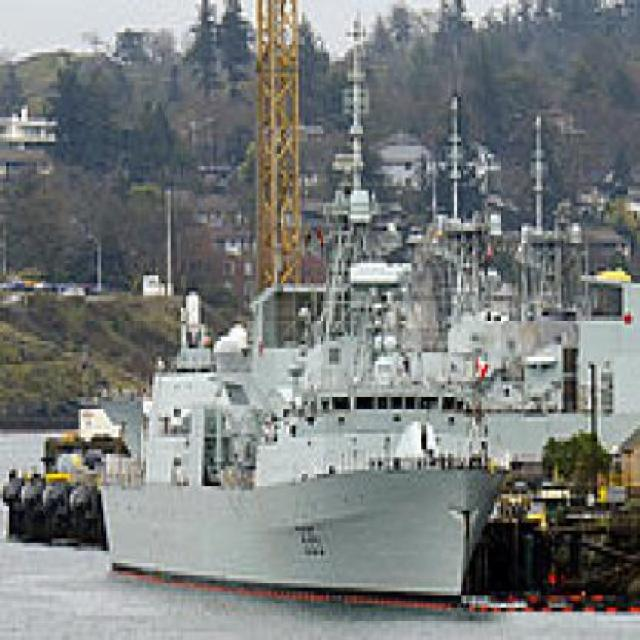warship2: (83, 192, 510, 621)
